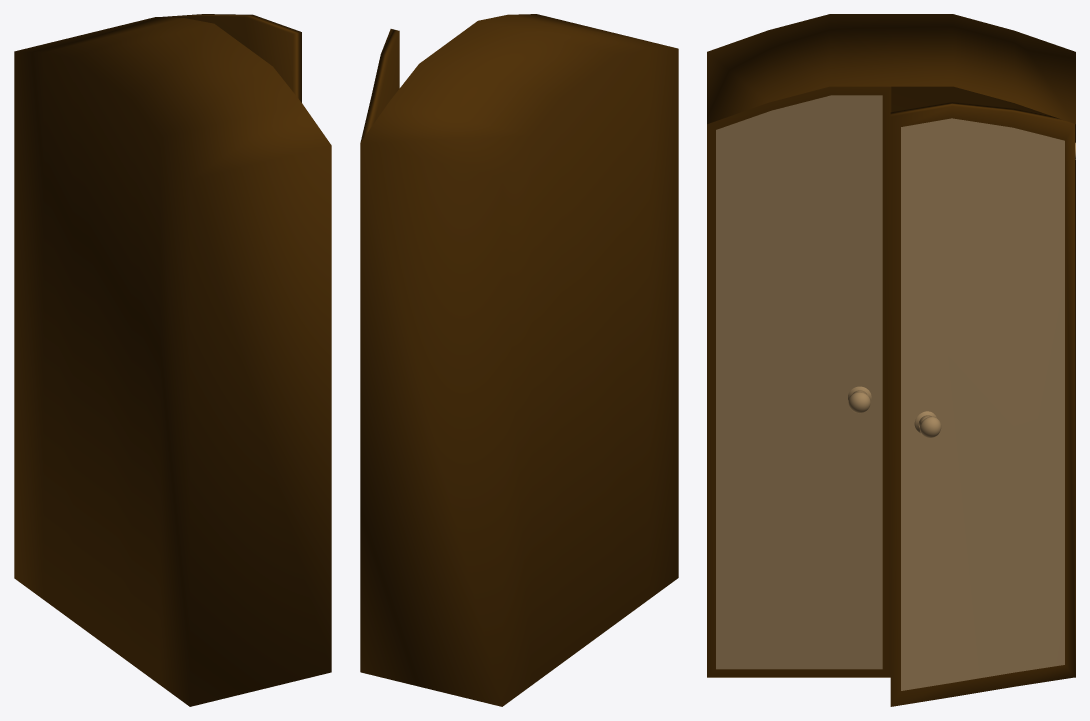
File: Wardrobe.fbx
The picture shows the model from 3 angles, left to right: view 1: azimuth 30°, elevation 25°; view 2: azimuth 150°, elevation 25°; view 3: azimuth 270°, elevation 25°; orthographic projection. The views are drawn at different scales.
Parts seen in each view (by area): view 1: Cube, Cube.002; view 2: Cube, Cube.002; view 3: Cube.002, Cube.001, Cube.
Boxes of the visible parts, x1=… form: Cube: x1=14, y1=17, x2=331, y2=706; Cube.002: x1=161, y1=14, x2=301, y2=102; Cube: x1=360, y1=14, x2=678, y2=706; Cube.002: x1=360, y1=29, x2=399, y2=141; Cube.002: x1=890, y1=102, x2=1074, y2=706; Cube.001: x1=707, y1=86, x2=891, y2=677; Cube: x1=707, y1=14, x2=1075, y2=677.
Size of the model in its own units: 292 by 760 by 430.
